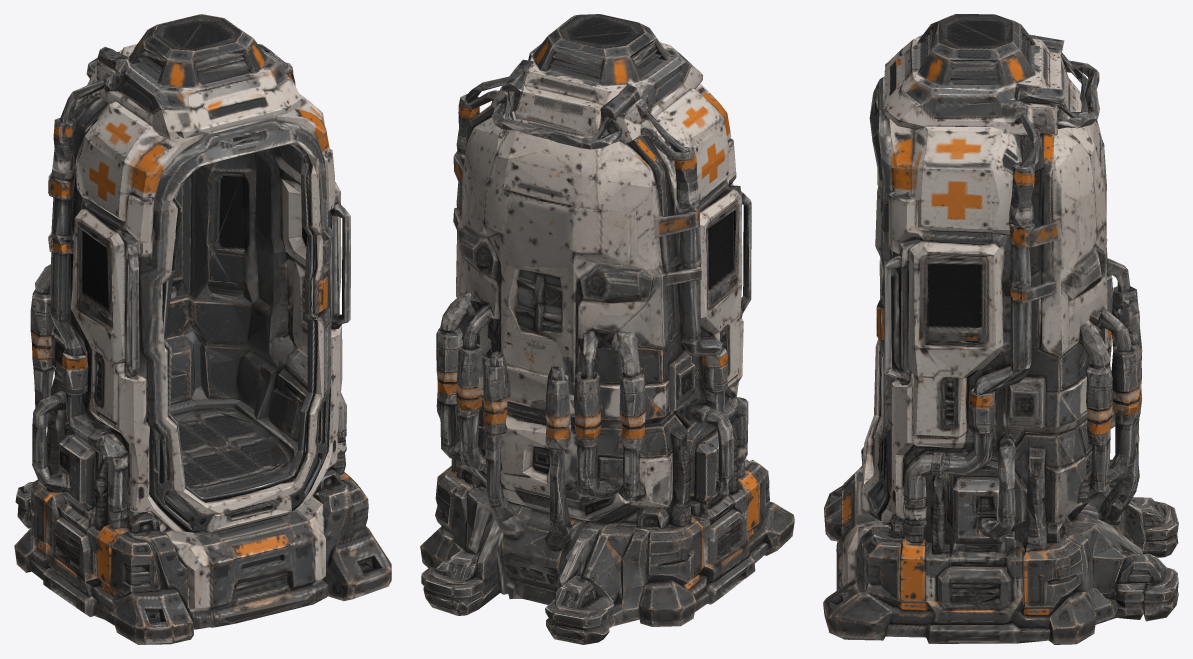
3 views of the same model, side by side, from view 1: azimuth 30°, elevation 25°; view 2: azimuth 150°, elevation 25°; view 3: azimuth 270°, elevation 25° (orthographic). The views are drawn at different scales.
Visible parts, largest first — view 1: Mesh_0; view 2: Mesh_0; view 3: Mesh_0.
Boxes of the visible parts, x1=… form: Mesh_0: x1=14, y1=14, x2=391, y2=644; Mesh_0: x1=420, y1=14, x2=794, y2=644; Mesh_0: x1=823, y1=14, x2=1178, y2=644.
Size of the model in its own units: 1.11 by 1.9 by 1.12.
Materials: 1 (1 with a texture image).
